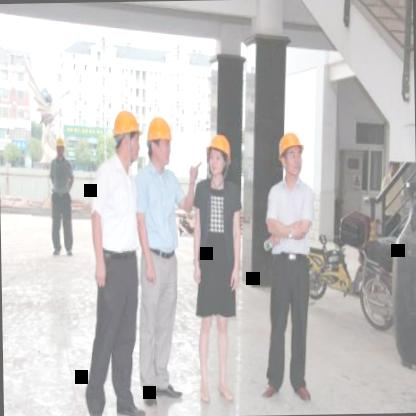helmet: (109, 106, 141, 166), (144, 111, 173, 166), (203, 129, 232, 182), (276, 128, 304, 178), (53, 129, 67, 158)
